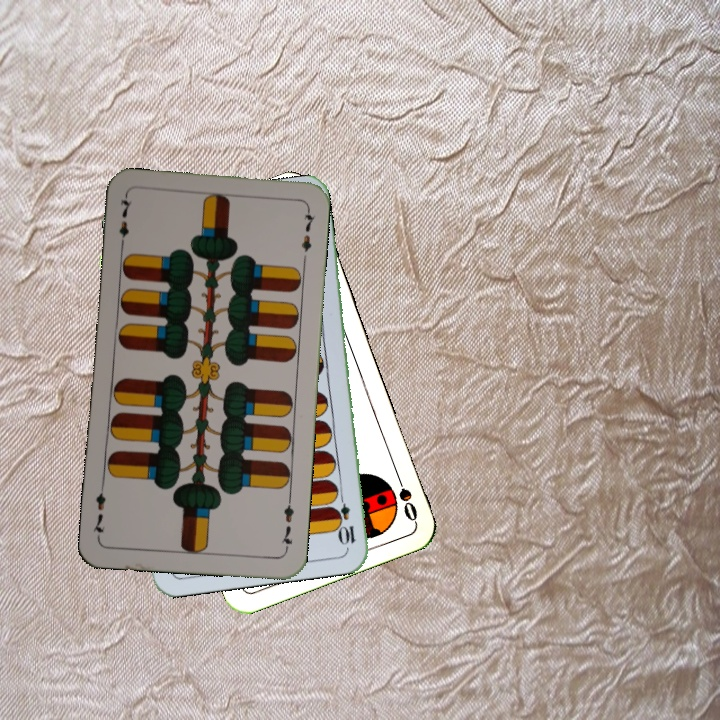E10: (333, 488, 358, 548)
E7: (277, 494, 296, 553), (115, 193, 134, 252)
SO: (391, 467, 420, 524)
